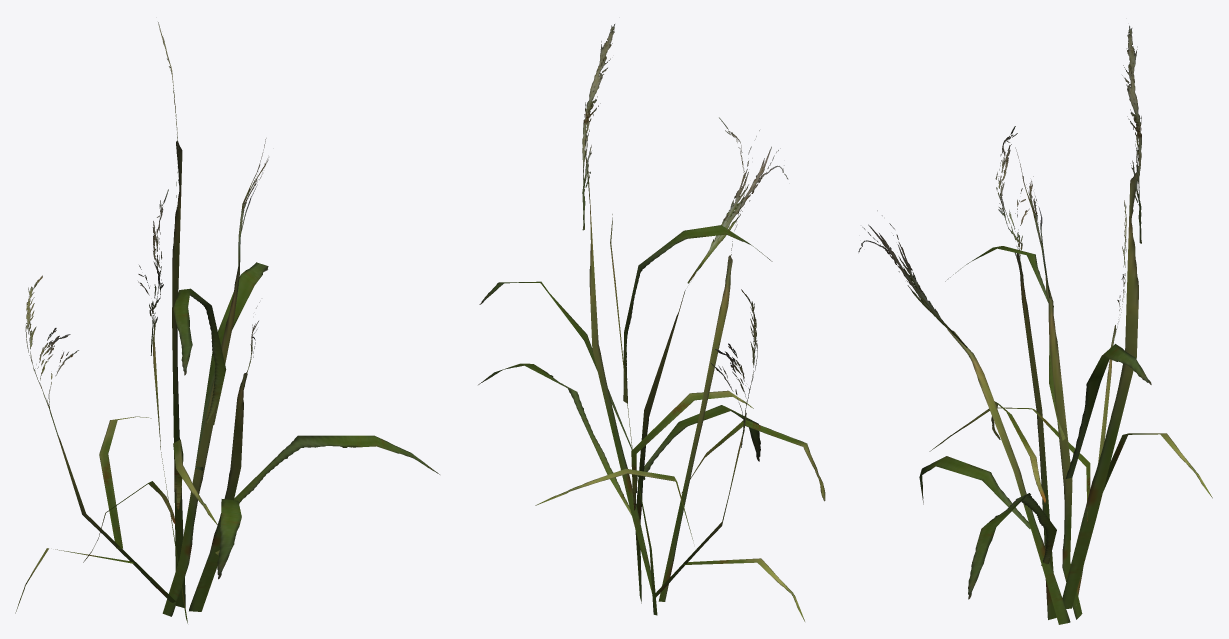
The model's file is grass_medium_01_tall_c.gltf.
The picture shows the model from 3 angles, left to right: view 1: azimuth 30°, elevation 25°; view 2: azimuth 150°, elevation 25°; view 3: azimuth 270°, elevation 25°; orthographic projection. The views are drawn at different scales.
Visible parts, largest first — view 1: grass_medium_01_tall_c__x; view 2: grass_medium_01_tall_c__x; view 3: grass_medium_01_tall_c__x.
Part boxes in pixels (x1=…): grass_medium_01_tall_c__x: x1=15, y1=22, x2=439, y2=623; grass_medium_01_tall_c__x: x1=478, y1=24, x2=825, y2=621; grass_medium_01_tall_c__x: x1=858, y1=25, x2=1212, y2=624.
Bounding box in the file's own units: 0.1509 × 0.2264 × 0.1208.
1 material, 1 textured.
